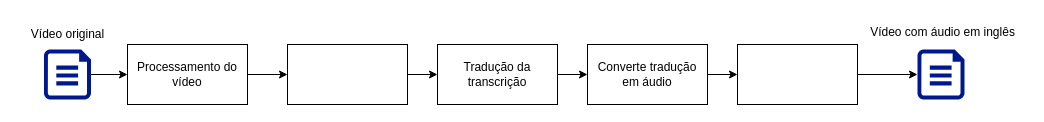
Some shapes in this 1044 by 122 pixel diagram are drawn without their labels. The shapes that lost their labels are listed below. From the top down, each one's box as (x1, y1, x2, y2) in pixels, then its label:
(286, 44, 408, 104): Transcrição do vídeo
(736, 44, 858, 104): Insere áudio no vídeo original
